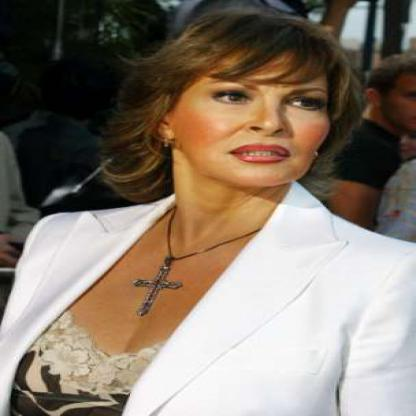face: (173, 16, 347, 193)
